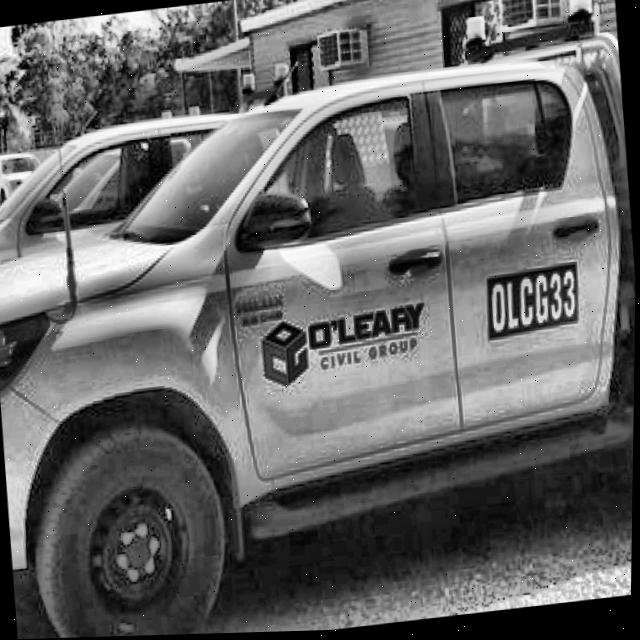light_vehicle: (0, 26, 640, 640)
